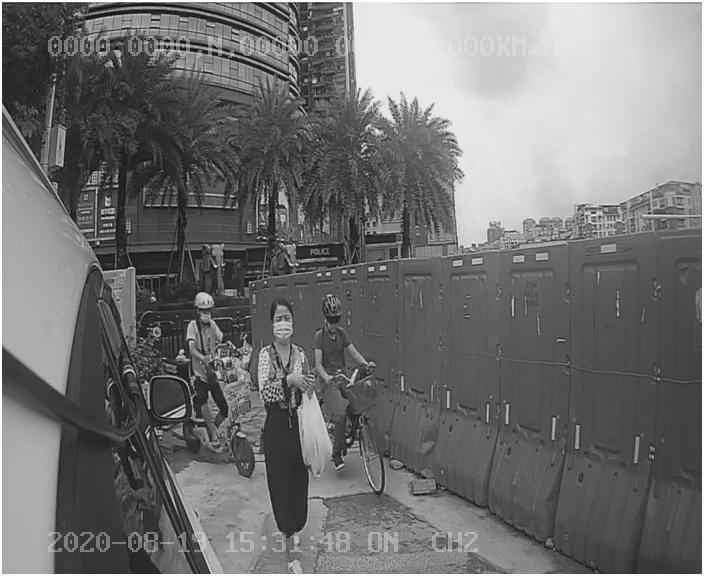person: (241, 298, 329, 542)
